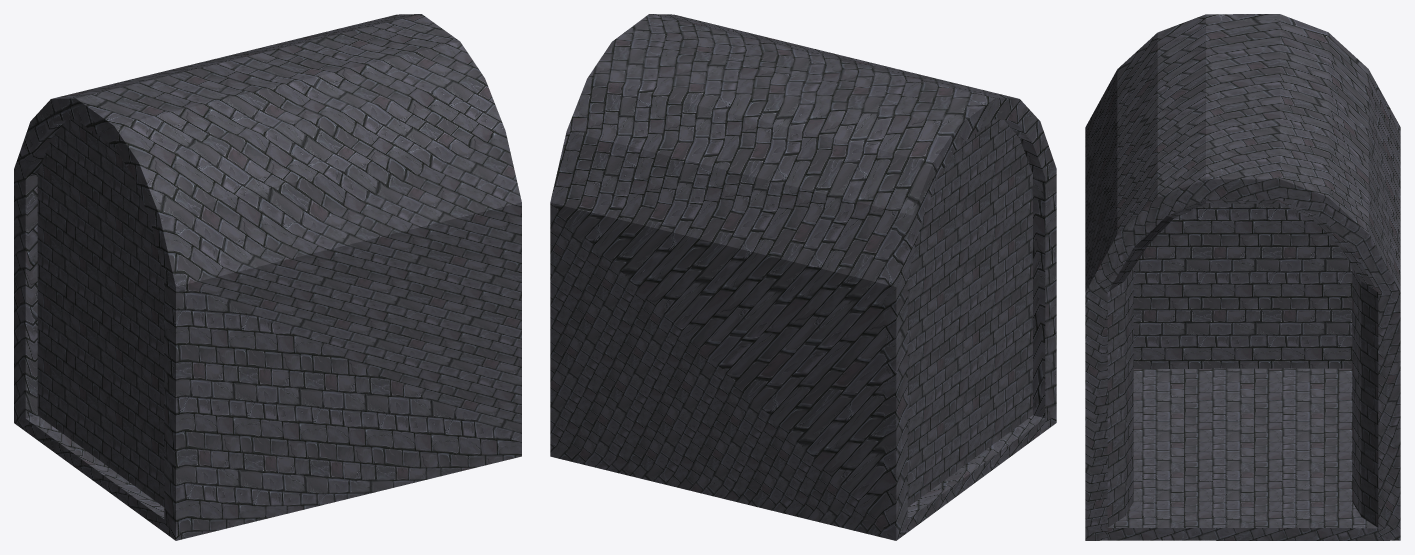
Rendered from dungeonsEnd.fbx.
3 views of the same model, side by side, from view 1: azimuth 30°, elevation 25°; view 2: azimuth 150°, elevation 25°; view 3: azimuth 270°, elevation 25° (orthographic). The views are drawn at different scales.
Parts seen in each view (by area): view 1: DungedonEnd; view 2: DungedonEnd; view 3: DungedonEnd.
Part boxes in pixels (<box>): DungedonEnd: <box>14,14,521,540</box>; DungedonEnd: <box>550,14,1056,540</box>; DungedonEnd: <box>1085,14,1400,540</box>.
Size of the model in its own units: 5.72 by 5.83 by 4.61.
